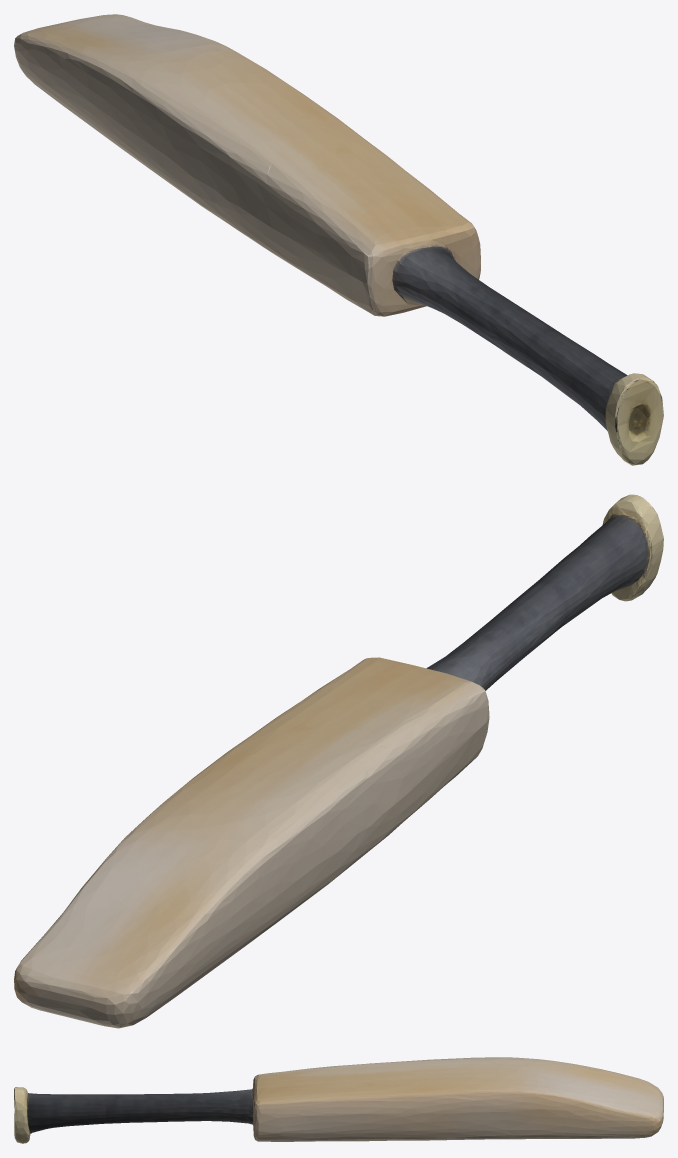
Rendered from cricketbat.glb.
3 renders of one model, top to bottom at view 1: azimuth 30°, elevation 25°; view 2: azimuth 150°, elevation 25°; view 3: azimuth 270°, elevation 25°, orthographic. The views are drawn at different scales.
Visible parts, largest first — view 1: world; view 2: world; view 3: world.
Boxes of the visible parts, <box> form: world: <box>14,14,663,465</box>; world: <box>14,494,663,1028</box>; world: <box>14,1057,663,1143</box>.
Size of the model in its own units: 0.148 by 0.1075 by 0.9995.
1 material, 1 textured.
